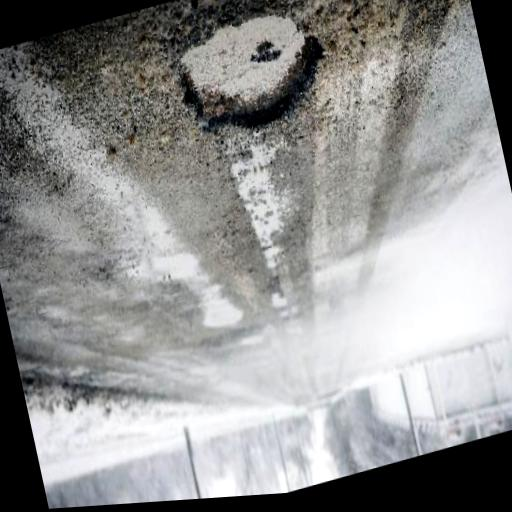pothole: (166, 0, 341, 157)
